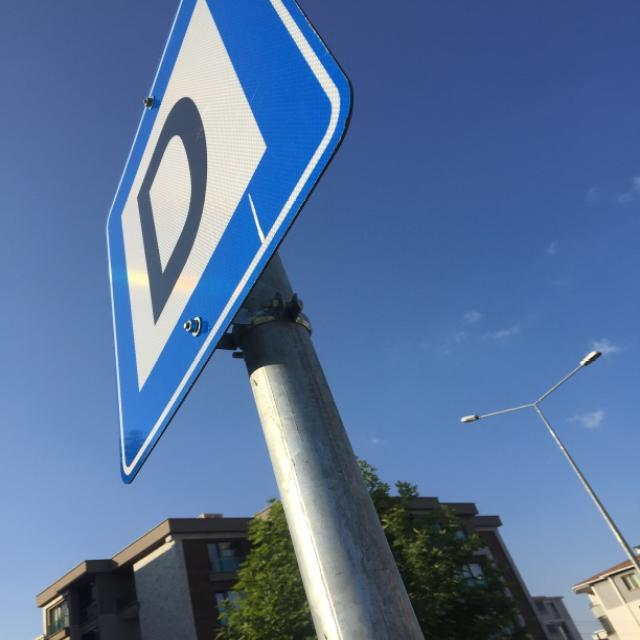durak: (100, 1, 358, 488)
